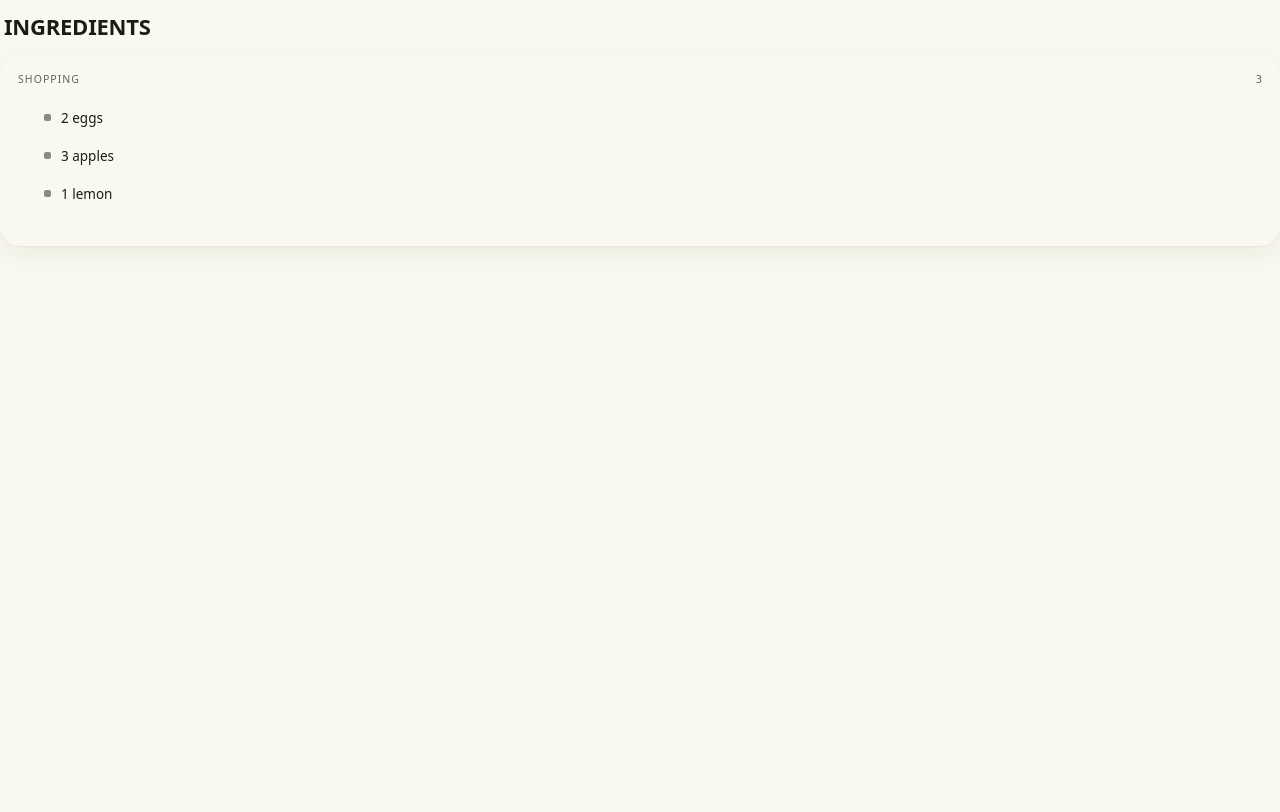
Test: right-click opens the block menu at the pointer (KAN-485) › opens at the click point and suppresses the browser menu
The image size is (1280, 812).
Right-click the element with id "block-b-shop".
right_click(640, 151)  # box [0, 56, 1279, 246]
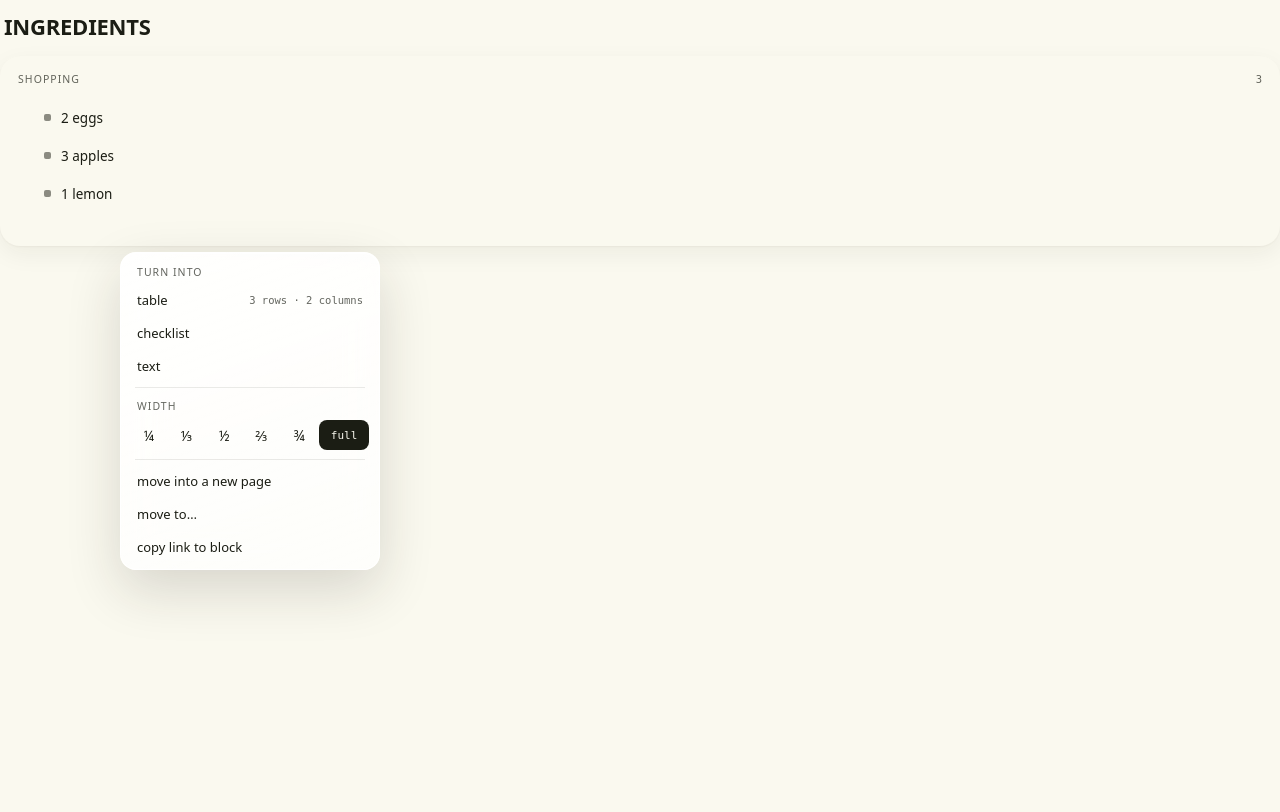
Now the menu named "block menu" is shown, box [120, 252, 380, 570]
